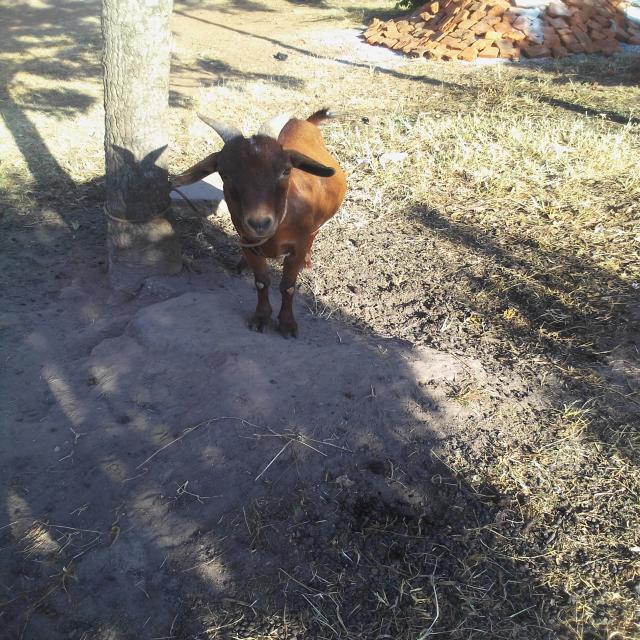goat: (102, 73, 407, 372)
